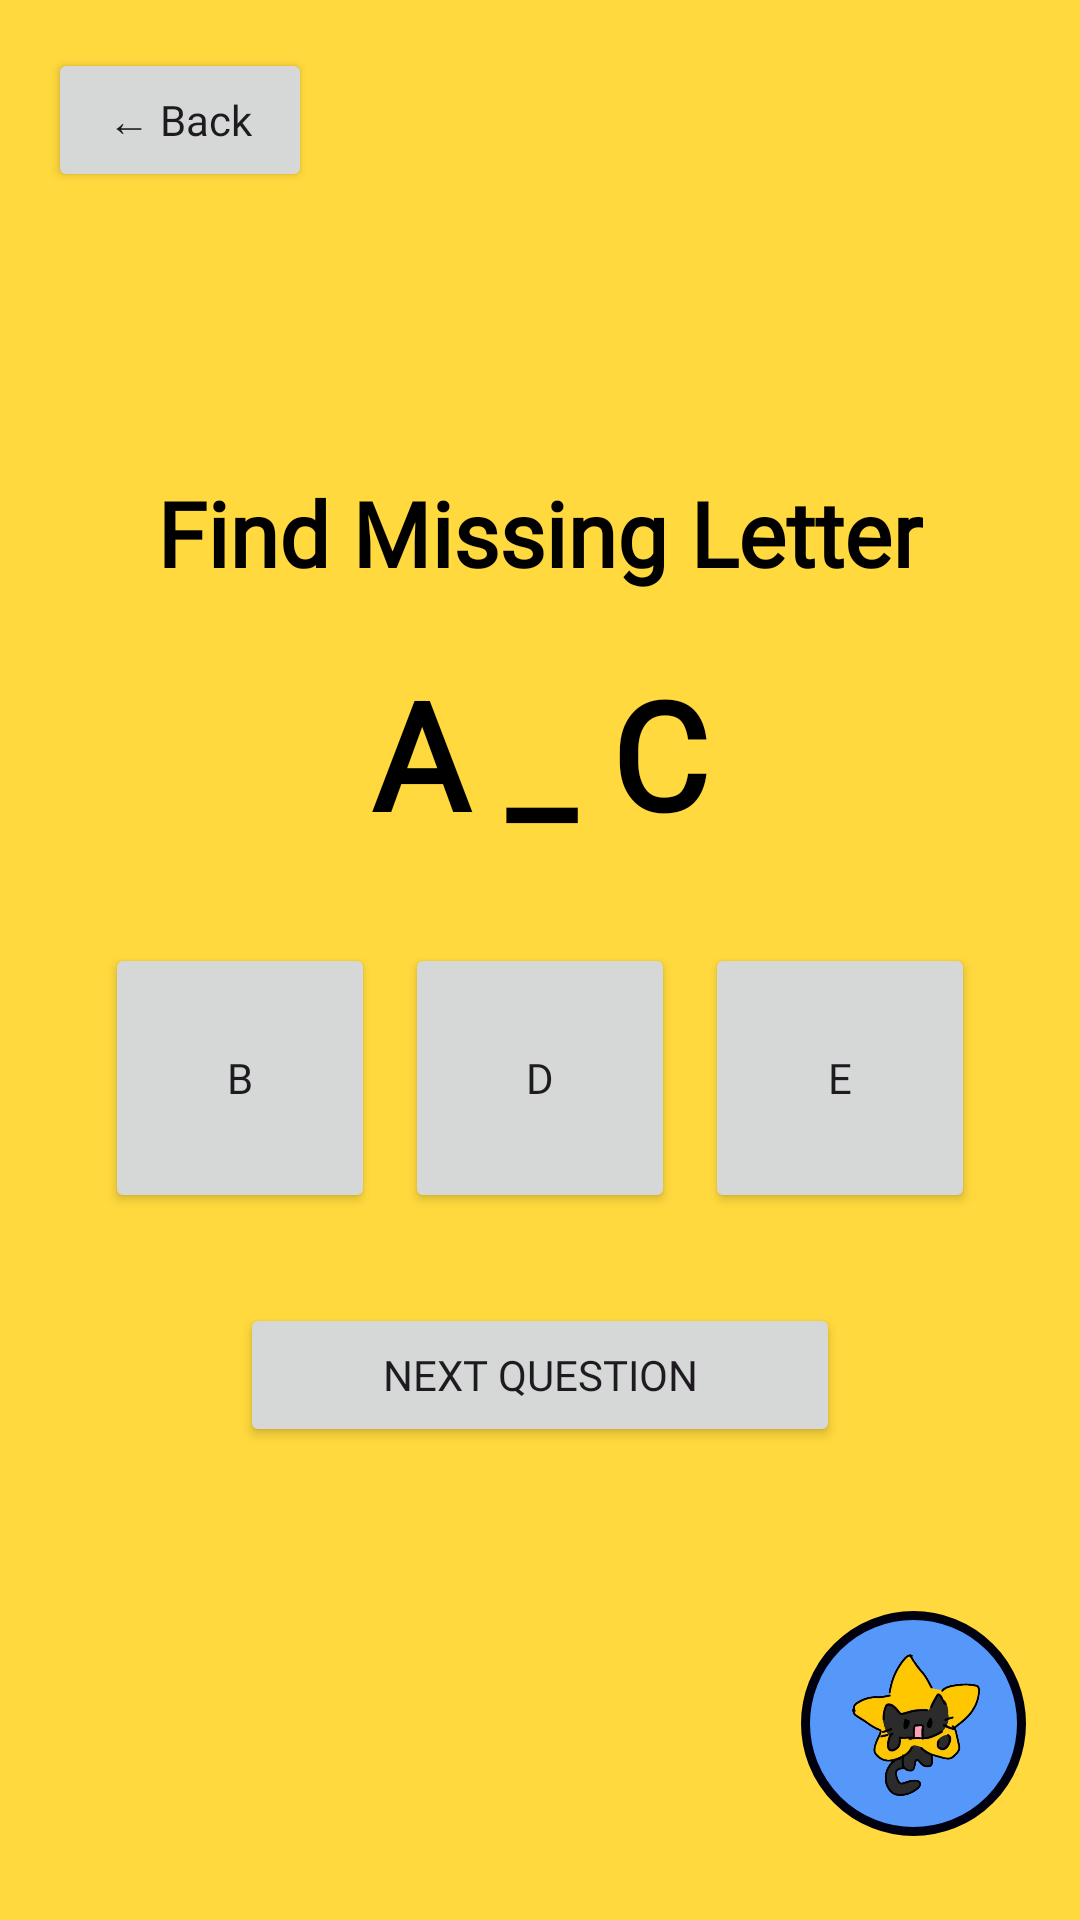

Where to tap for icons on this 1080w x 1920h app screen, as [x,y]:
star: [913,1723]
